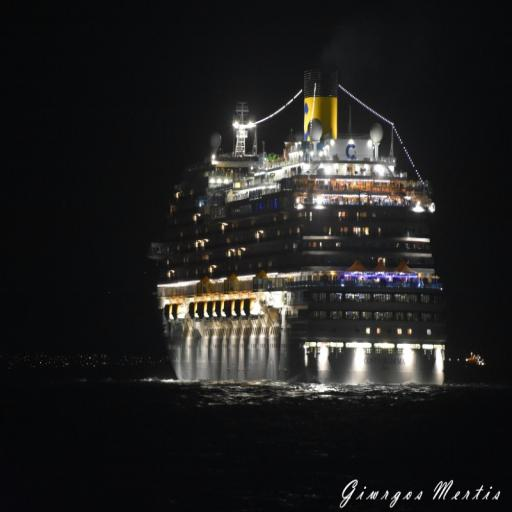cruises: (138, 52, 456, 400)
